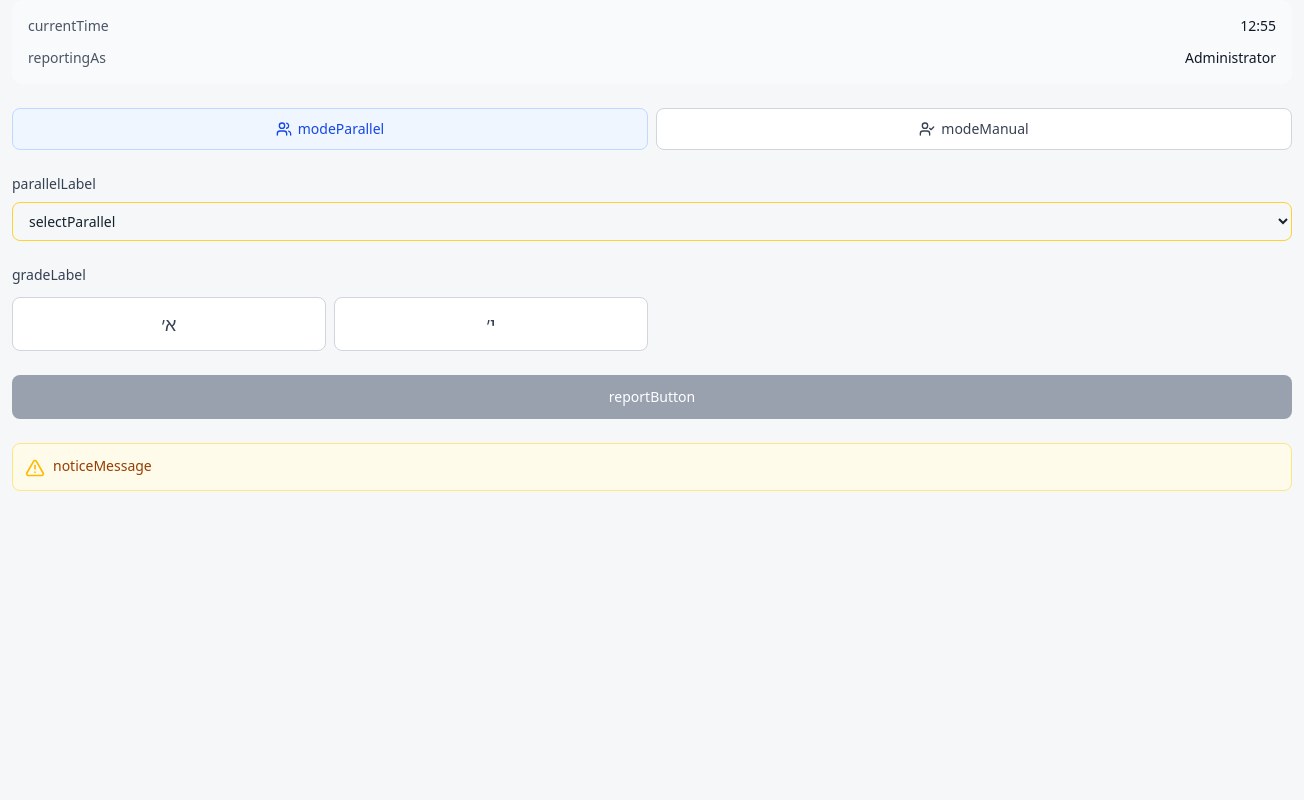
Test: ManagementReportForm › selects grade and shows class options
Click the button with test id "select-parallel" showing "א׳" at (169, 324), box [12, 297, 326, 351]
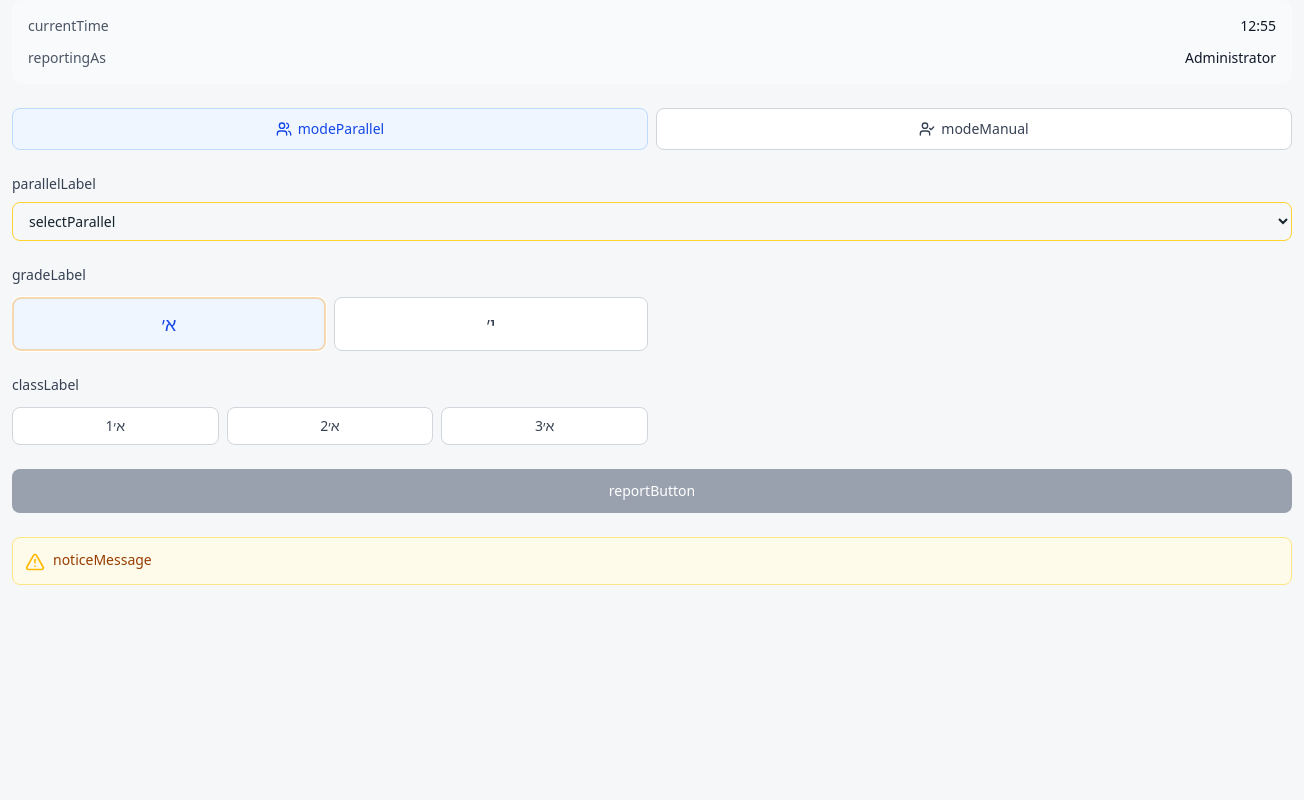
Check: the text "classLabel" is shown, box [12, 375, 79, 394]
